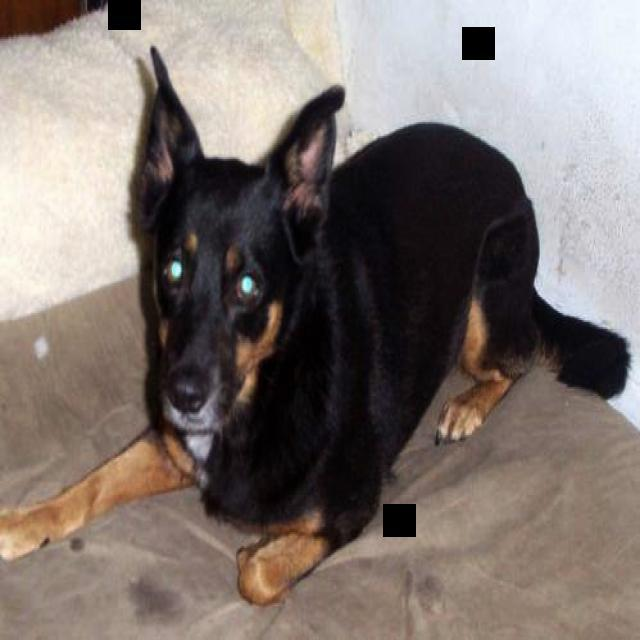adult_dog: (1, 40, 636, 609)
